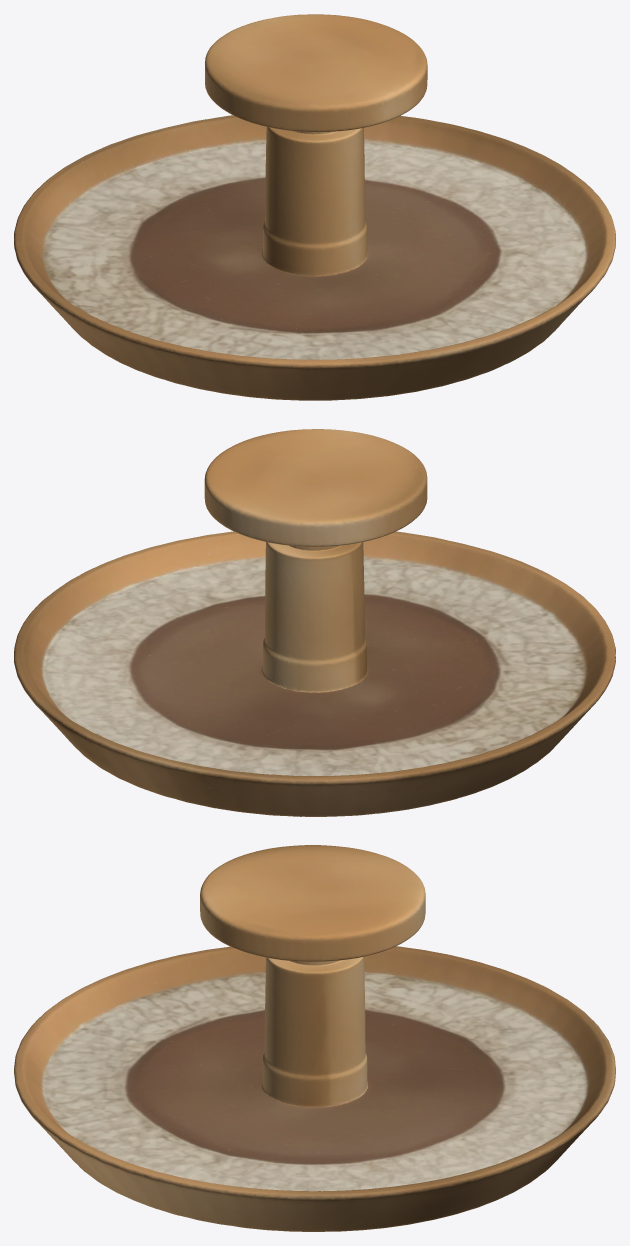
File: ceiling.glb
3 renders of one model, top to bottom at view 1: azimuth 30°, elevation 25°; view 2: azimuth 150°, elevation 25°; view 3: azimuth 270°, elevation 25°, orthographic.
Visible parts, largest first — view 1: world; view 2: world; view 3: world.
Boxes of the visible parts, x1,y1,x2,y2 form: world: (14, 14, 615, 400); world: (14, 429, 615, 816); world: (14, 845, 615, 1231).
Bounding box in the file's own units: 1 × 0.4313 × 1.
Materials: 1 (1 with a texture image).
